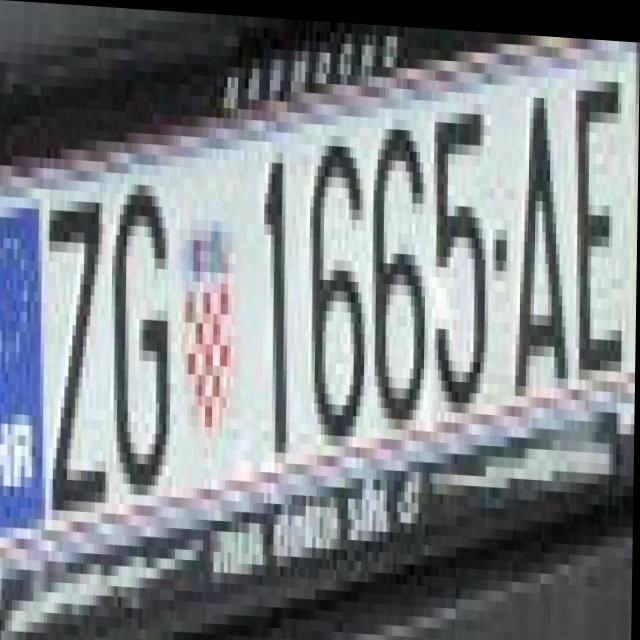1: (251, 158, 308, 471)
5: (425, 94, 488, 398)
6: (308, 119, 365, 453), (368, 112, 428, 425)
A: (509, 78, 569, 391)
E: (572, 71, 633, 384)
G: (107, 171, 174, 484)
Z: (44, 178, 110, 491)
